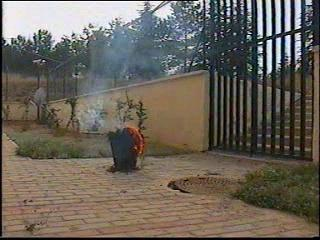smoke: (91, 55, 115, 114)
